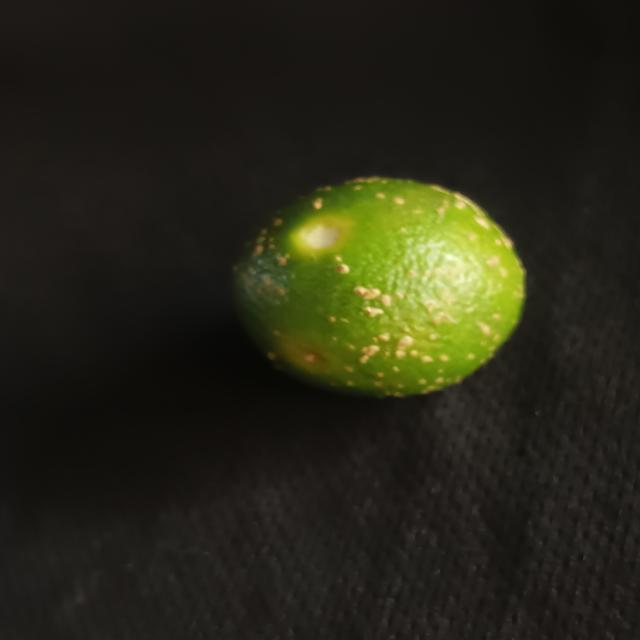scab: (227, 168, 541, 402)
